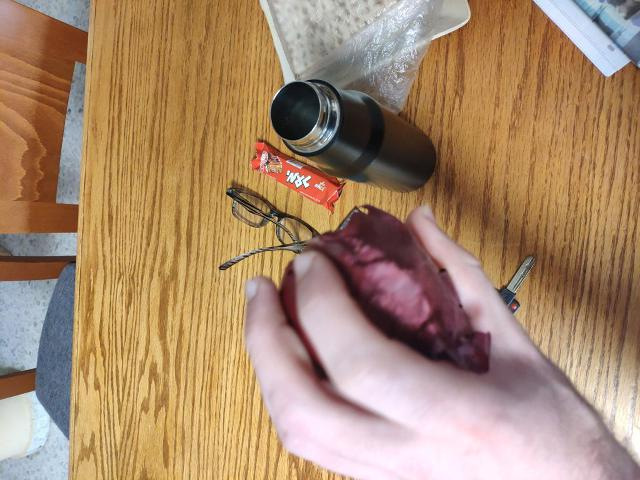onion: (281, 221, 502, 379)
